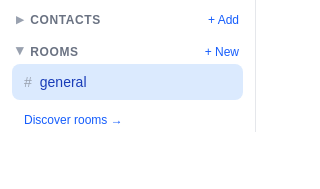
Test case: SidebarLeft accordion › lets the user re-expand a collapsed section manually
The image size is (320, 189).
Expected: the text "bob" is not shown
Click the button "▶ Contacts" at (58, 20), box [12,12,105,28]
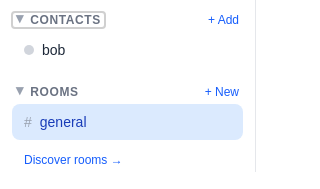
Now the button "▶ Contacts" is expanded, box [12,12,105,28]
Now the text "bob" is shown, box [42,42,65,58]
